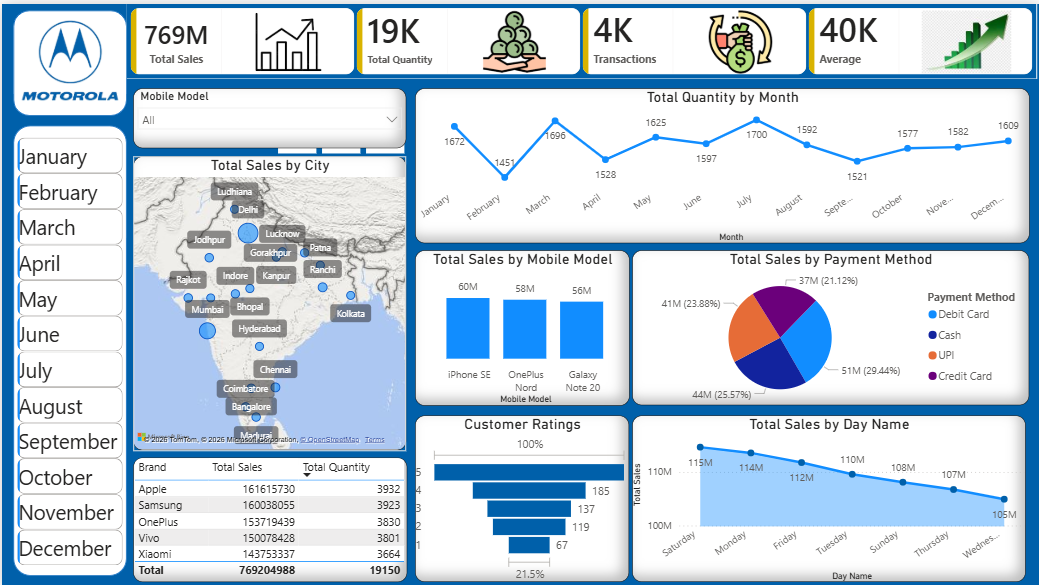

What the dashboard file says about the page in this screenshot:
{"tool":"powerbi","page":{"name":"Page 1","canvas":[1280,720],"ordinal":0},"visuals":[{"type":"shape","box":[14,8,140,130],"z":0},{"type":"image","box":[14,8,140,124],"z":1000},{"type":"shape","box":[14,150,140,556],"z":2000},{"type":"listSlicer","fields":{"Values":["Sales_Data.Date.Variation.Date Hierarchy.Month"]},"box":[14,160,140,538],"z":3000},{"type":"cardVisual","fields":{"Data":["Sales_Data.Total Sales","Sales_Data.Total Quantity","Sales_Data.Transactions","Sales_Data.Average"]},"box":[154.3,0,1124.3,92.9],"z":4000},{"type":"actionButton","box":[0,296,68,8],"z":5000},{"type":"map","fields":{"Category":["Sales_Data.City"],"Size":["Sales_Data.Total Sales"]},"box":[161.4,188.6,337.1,362.9],"z":6000},{"type":"lineChart","fields":{"Category":["Sales_Data.Units Sold","Sales_Data.Date.Variation.Date Hierarchy.Month"],"Y":["Sales_Data.Total Quantity"]},"box":[510,104.3,758.6,191.4],"z":7000},{"type":"clusteredColumnChart","fields":{"Category":["Sales_Data.Mobile Model"],"Y":["Sales_Data.Total Sales"]},"box":[510.4,304.2,264.6,191.7],"z":8000},{"type":"pieChart","fields":{"Y":["Sales_Data.Total Sales"],"Category":["Sales_Data.Payment Method"]},"box":[778.6,304.3,490,191.4],"z":9000},{"type":"funnel","title":"Customer Ratings","fields":{"Category":["Sales_Data.Customer Ratings"],"Y":["CountNonNull(Sales_Data.Customer Ratings)"]},"box":[510,508.6,264.3,205.7],"z":10000},{"type":"areaChart","fields":{"Category":["Sales_Data.Day Name"],"Y":["Sales_Data.Total Sales"]},"box":[778.6,508.6,485.7,205.7],"z":11000},{"type":"tableEx","fields":{"Values":["Sales_Data.Brand","Sales_Data.Total Sales","Sales_Data.Total Quantity"]},"box":[162,560,338,154],"z":12000},{"type":"slicer","fields":{"Values":["Sales_Data.Mobile Model"]},"box":[161.4,104.3,337.1,74.3],"z":13000}]}

Visuals, with their boxes in screenshot pixels (x1, y1, x2, y2), scaled from the page's 1280x720 canvas onto the 1039x585 screenshot:
shape: 11,6,125,112
image: 11,6,125,107
shape: 11,122,125,574
listSlicer - Sales_Data.Date.Variation.Date Hierarchy.Month: 11,130,125,567
cardVisual - Sales_Data.Total Sales x Sales_Data.Total Quantity: 125,0,1038,75
actionButton: 0,240,55,247
map - Sales_Data.City x Sales_Data.Total Sales: 131,153,405,448
lineChart - Sales_Data.Units Sold x Sales_Data.Date.Variation.Date Hierarchy.Month: 414,85,1030,240
clusteredColumnChart - Sales_Data.Mobile Model x Sales_Data.Total Sales: 414,247,629,403
pieChart - Sales_Data.Total Sales x Sales_Data.Payment Method: 632,247,1030,403
"Customer Ratings" funnel: 414,413,629,580
areaChart - Sales_Data.Day Name x Sales_Data.Total Sales: 632,413,1026,580
tableEx - Sales_Data.Brand x Sales_Data.Total Sales: 131,455,406,580
slicer - Sales_Data.Mobile Model: 131,85,405,145
